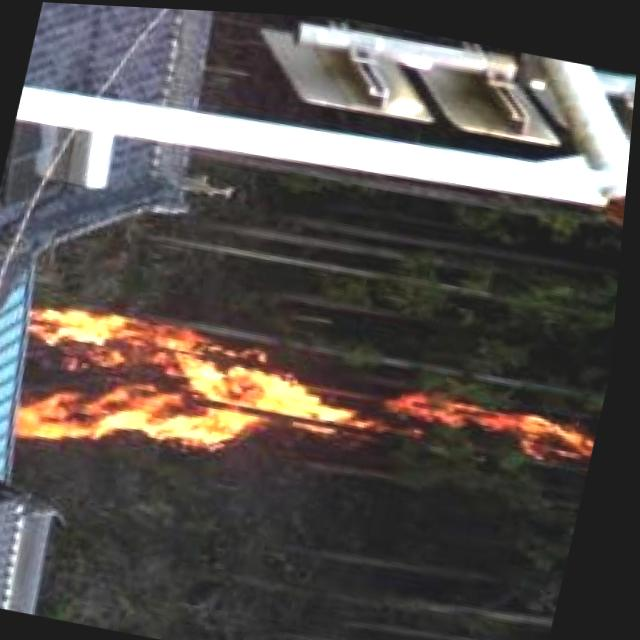Fire: (13, 296, 610, 543)
